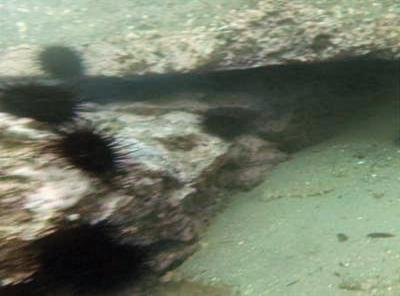urchin: (40, 223, 145, 296), (54, 124, 128, 182), (0, 78, 82, 129), (38, 44, 86, 79)
